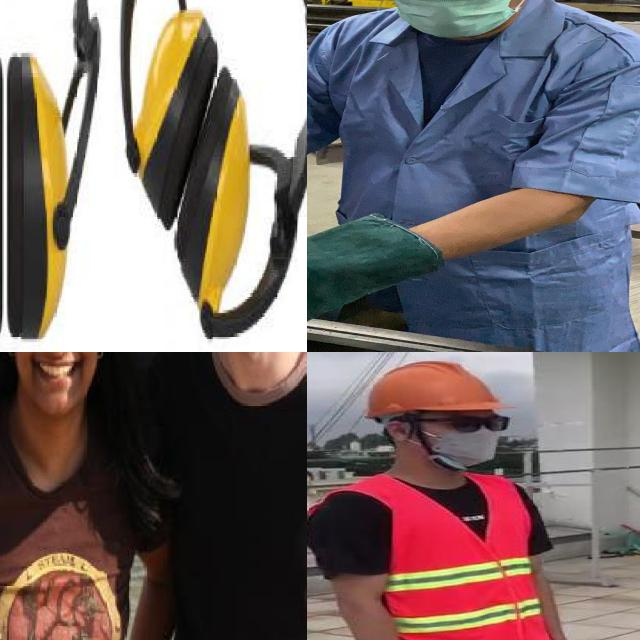Ear-protection: (132, 0, 307, 349), (0, 0, 109, 340)
face_mask: (424, 410, 509, 468), (392, 0, 517, 38)
face_nomask: (6, 352, 109, 405)
glasses: (441, 408, 517, 437)
hand_glove: (307, 215, 446, 321)
head_helmet: (364, 358, 515, 422)
person: (307, 361, 626, 640), (123, 352, 307, 640), (0, 352, 162, 640)
vest: (312, 470, 550, 640)
